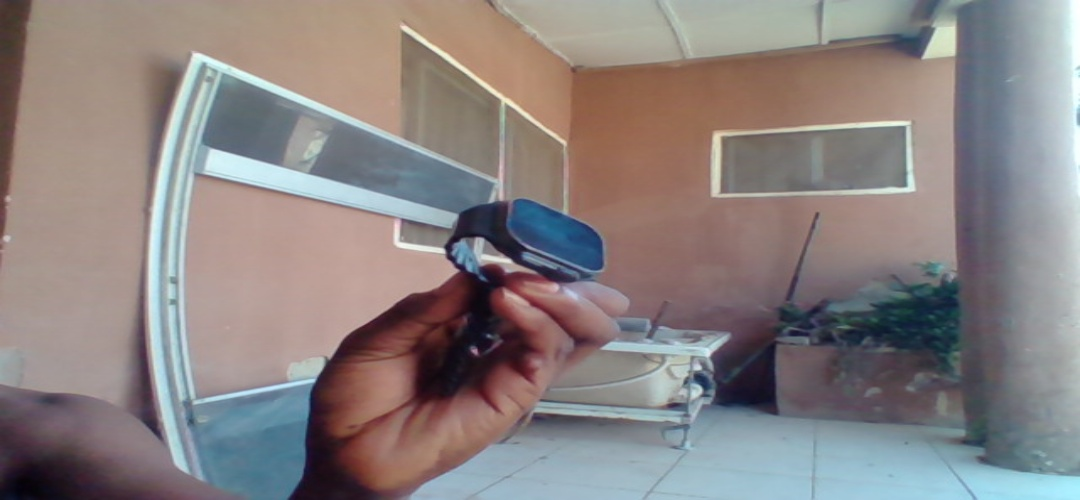smart_watch: (446, 197, 609, 283)
